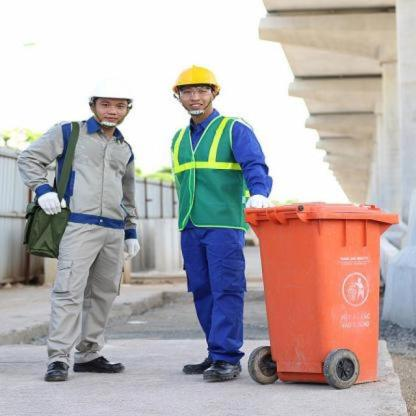bota: (201, 352, 242, 382), (71, 353, 125, 374), (181, 355, 214, 374), (44, 357, 70, 380)
capacete: (88, 78, 132, 128), (171, 65, 216, 112)
oculos: (174, 84, 216, 100)
